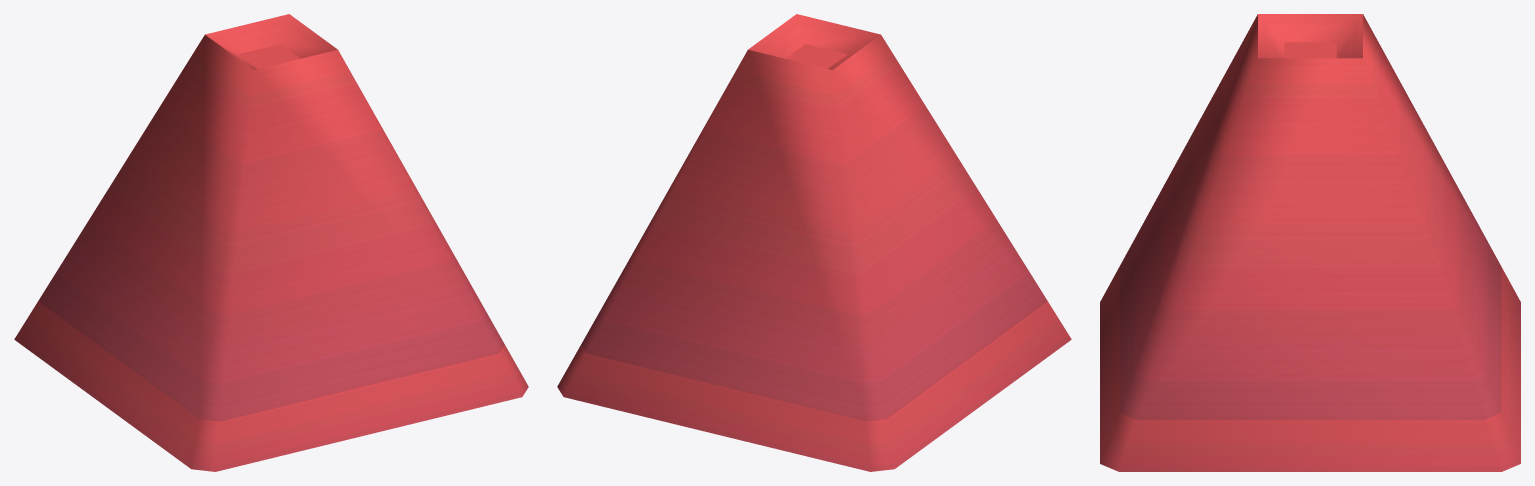
File: roof-high-point.glb
3 views of the same model, side by side, from view 1: azimuth 30°, elevation 25°; view 2: azimuth 150°, elevation 25°; view 3: azimuth 270°, elevation 25° (orthographic). The views are drawn at different scales.
Parts seen in each view (by area): view 1: roof-high-point; view 2: roof-high-point; view 3: roof-high-point.
Boxes of the visible parts, bbox=[...] form: roof-high-point: bbox=[14, 14, 528, 471]; roof-high-point: bbox=[557, 14, 1071, 471]; roof-high-point: bbox=[1100, 14, 1520, 471].
Bounding box in the file's own units: 1.1 × 1 × 1.1.
Materials: 1 (1 with a texture image).
